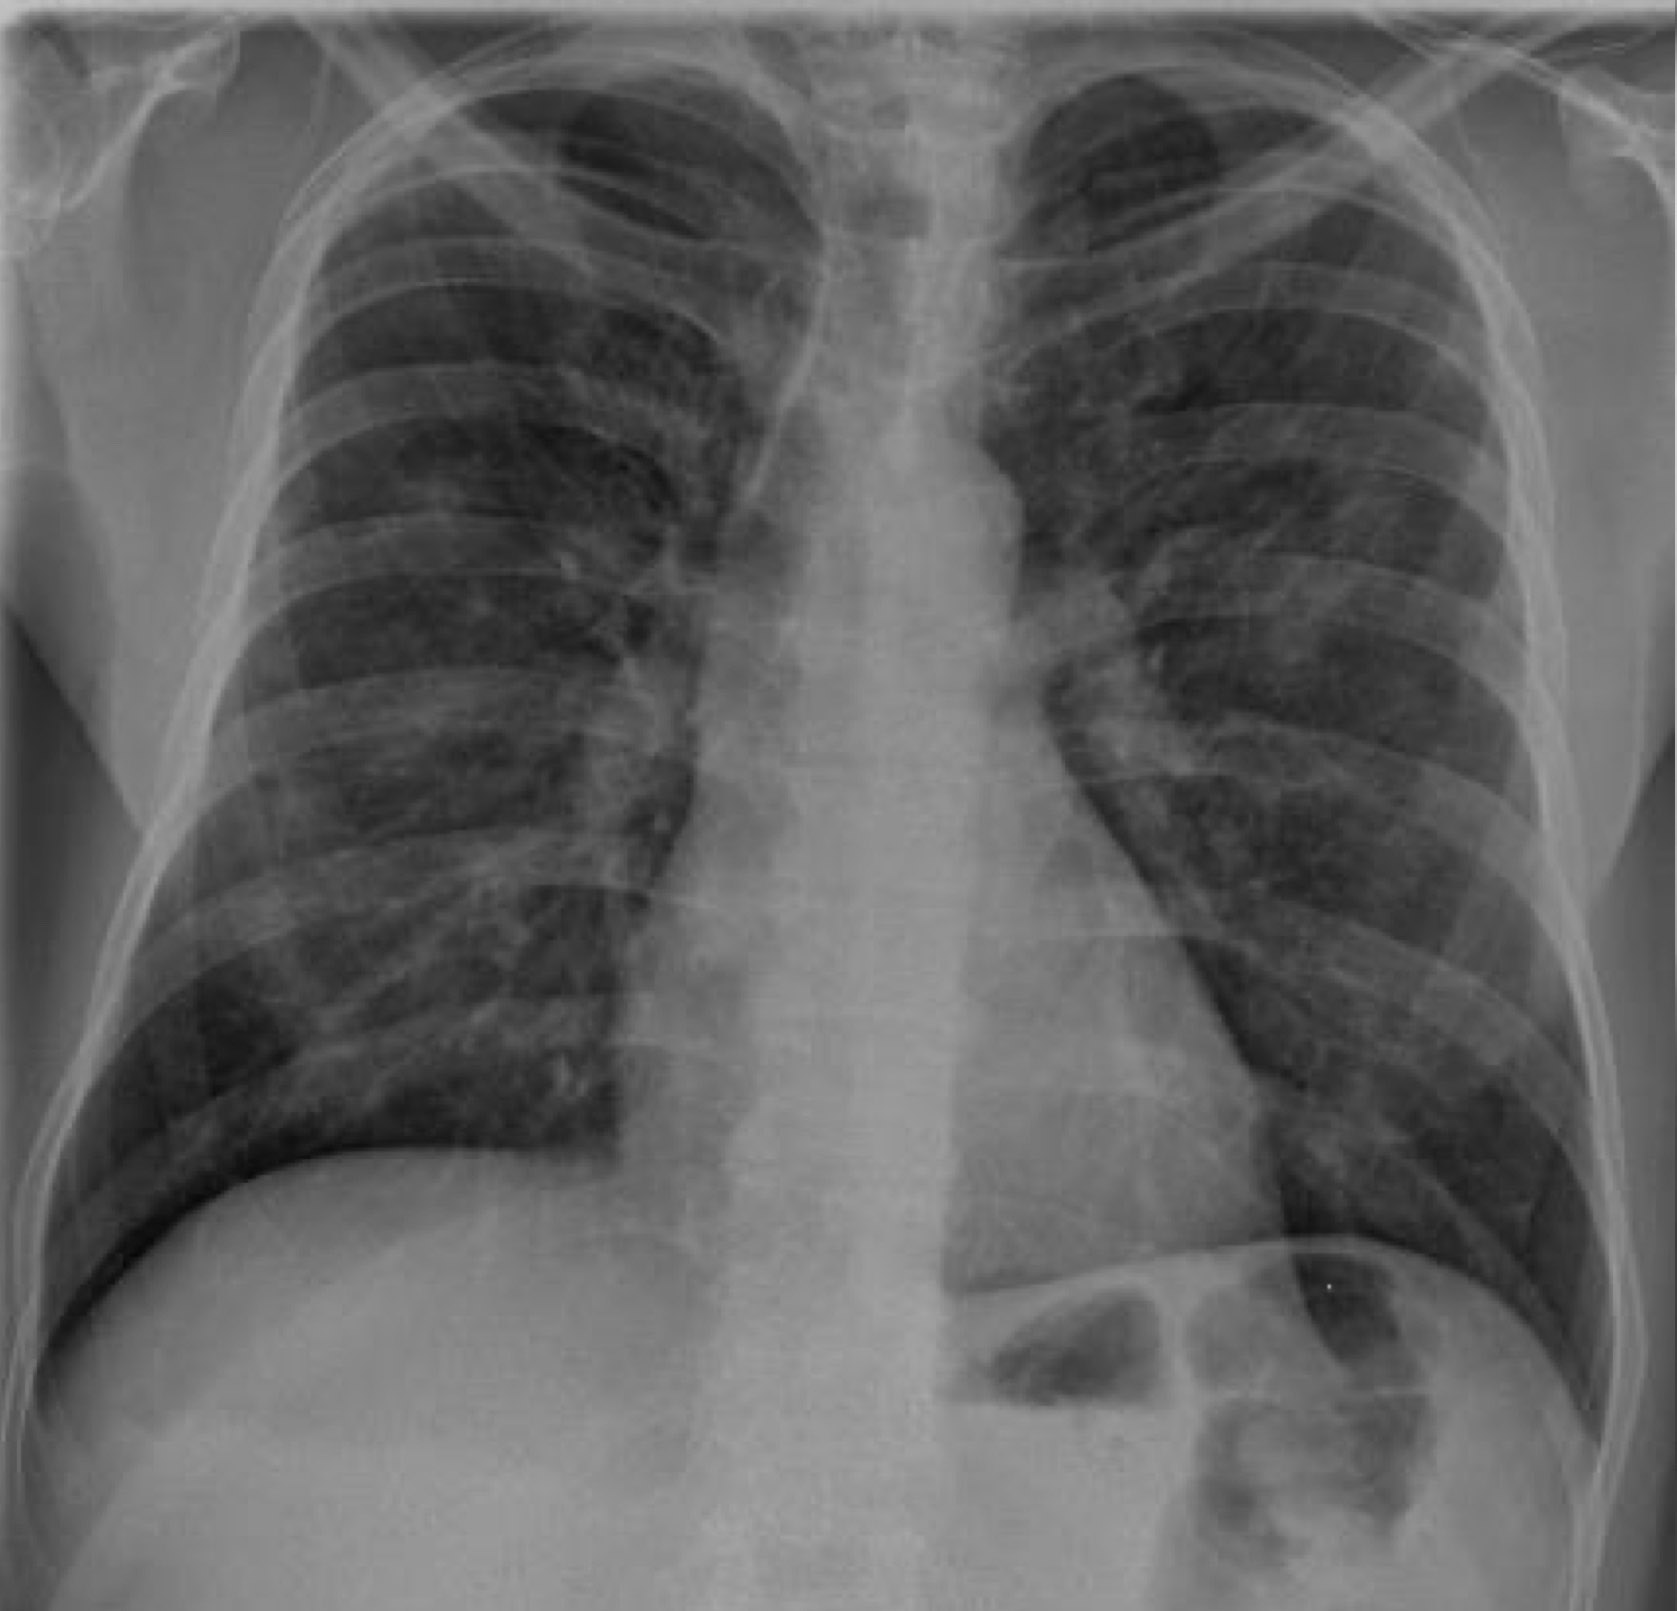Mildw: (39, 61, 809, 1392), (1006, 79, 1596, 1410)
